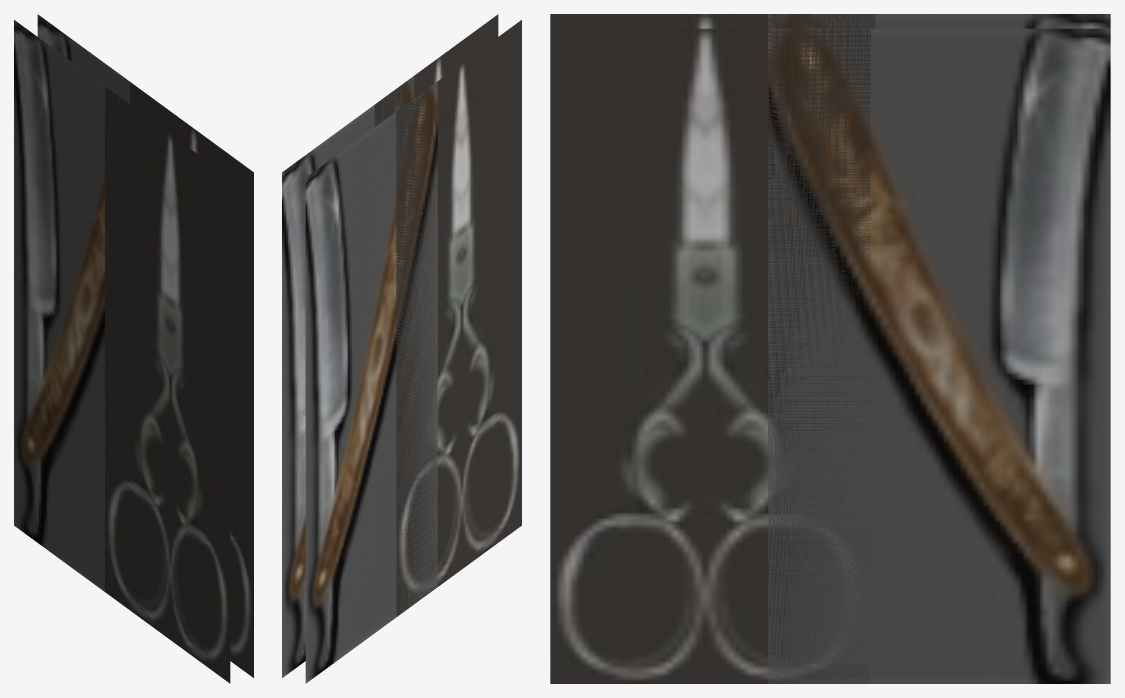
Rendered from sign1_spanish_b_icon_barber.fbx.
3 views of the same model, side by side, from view 1: azimuth 30°, elevation 25°; view 2: azimuth 150°, elevation 25°; view 3: azimuth 270°, elevation 25° (orthographic). The views are drawn at different scales.
Visible parts, largest first — view 1: icon_scissors, icon_razor; view 2: icon_razor, icon_scissors; view 3: icon_razor, icon_scissors.
Boxes of the visible parts, bbox=[...] form: icon_scissors: bbox=[105, 82, 253, 683]; icon_razor: bbox=[14, 14, 142, 591]; icon_razor: bbox=[282, 76, 437, 683]; icon_scissors: bbox=[374, 14, 521, 616]; icon_razor: bbox=[768, 14, 1110, 683]; icon_scissors: bbox=[550, 14, 875, 683].
Bounding box in the file's own units: 16.67 × 345 × 267.
Materials: 1 (1 with a texture image).
